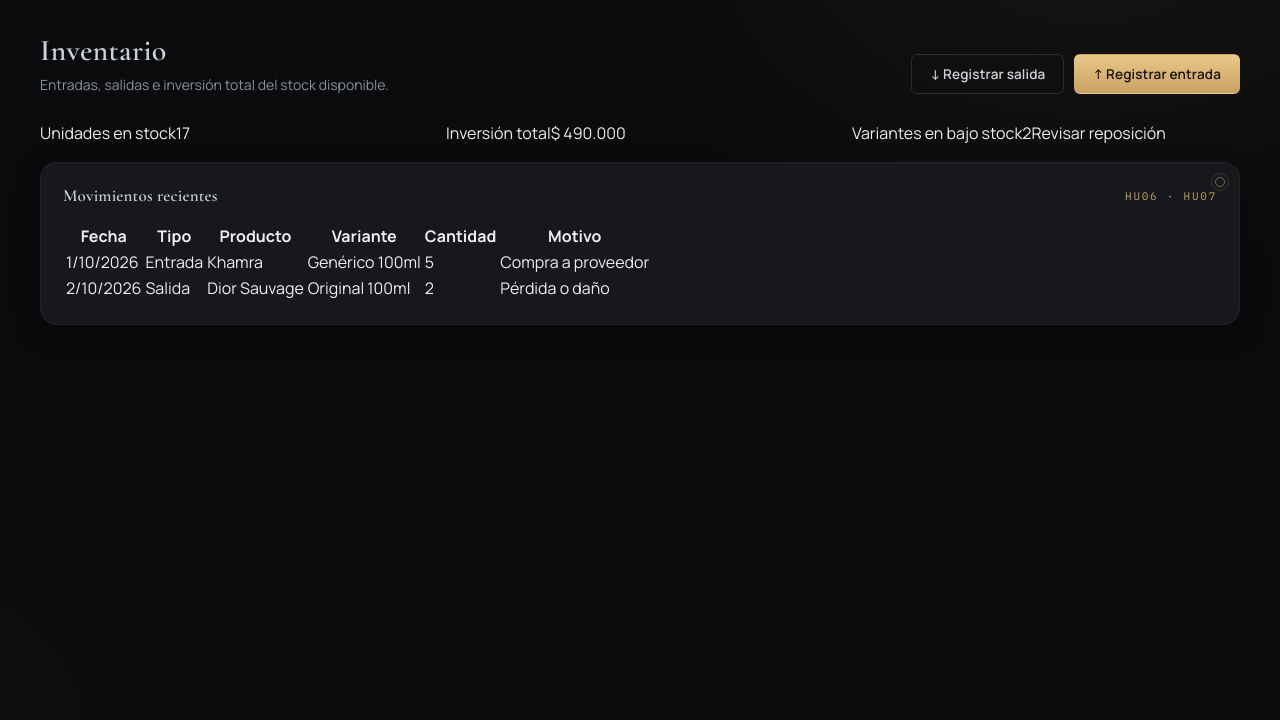
Inventario: formulario de movimientos › abre y cierra el formulario de entrada con el mismo botón
Later steps or results of the test are not shown.
Check: the text "Unidades en stock" is shown, box [40,122,176,144]
Click the button "↑ Registrar entrada". click: (1157, 74)
box: [1074,54,1240,94]
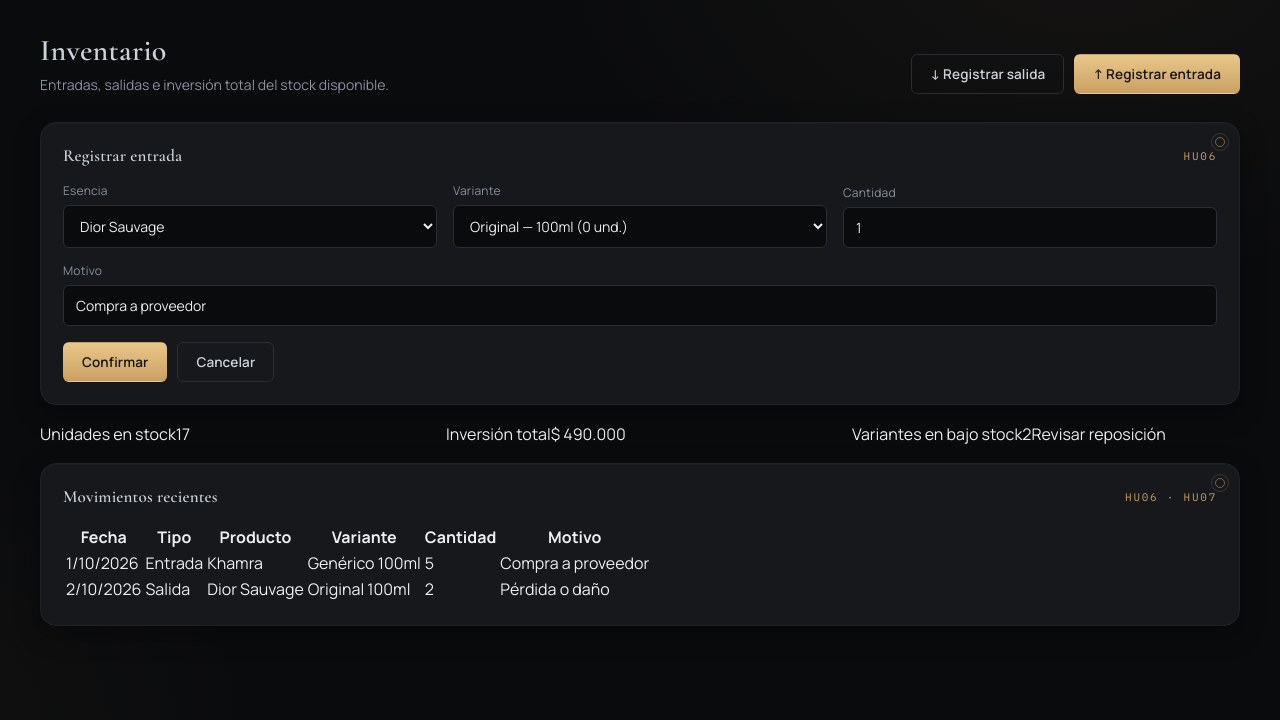
Check: the heading "Registrar entrada" is shown, box [63,145,182,166]
